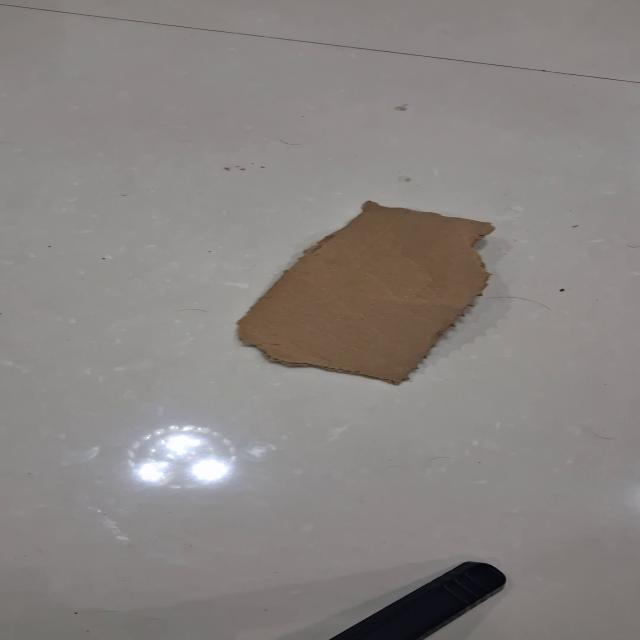paper: (234, 199, 496, 386)
